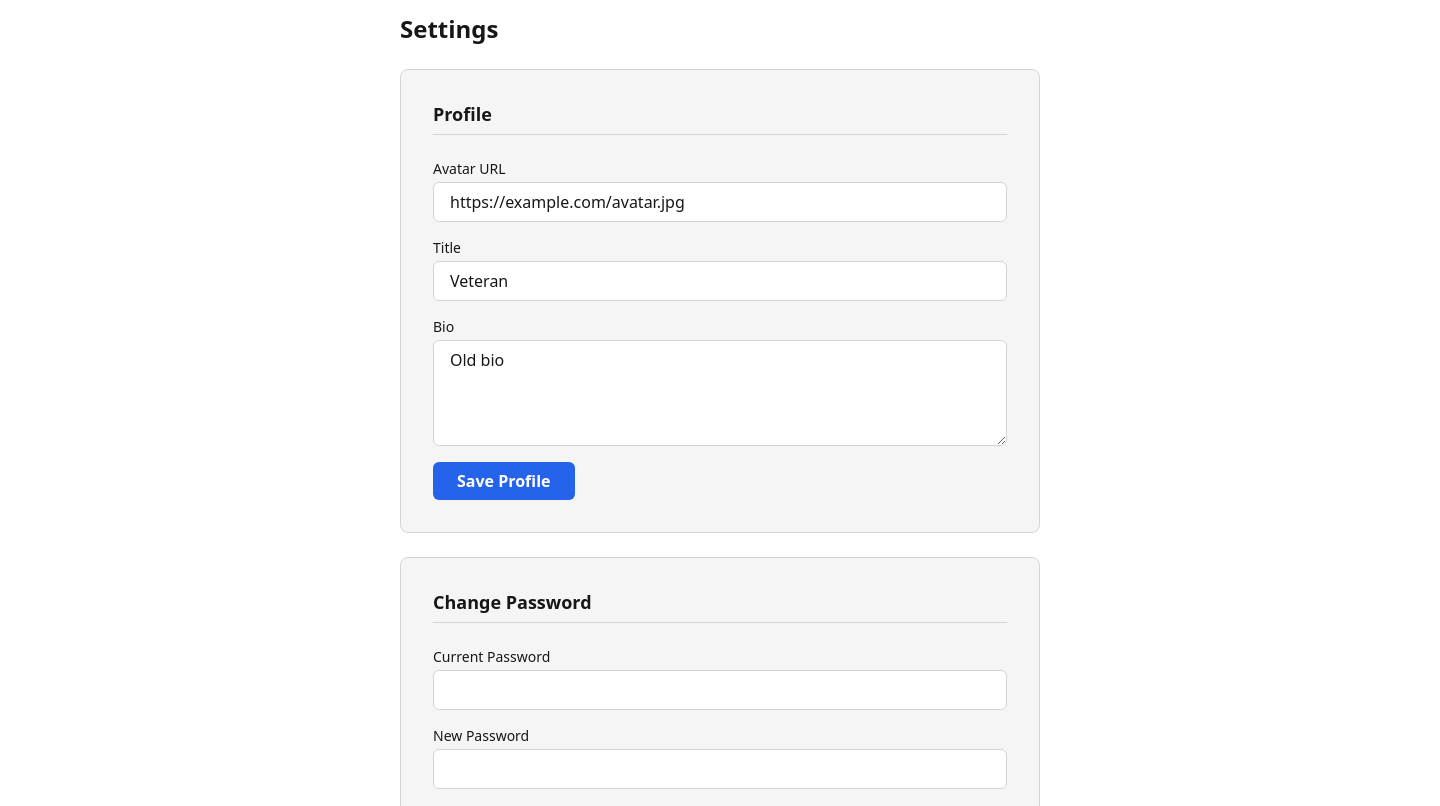
Scenario: UserSettingsPage › shows success toast on profile update
The width and height of the screenshot is (1440, 806).
Click the button "Save Profile".
click(504, 481)  # box 433,462 -> 574,500
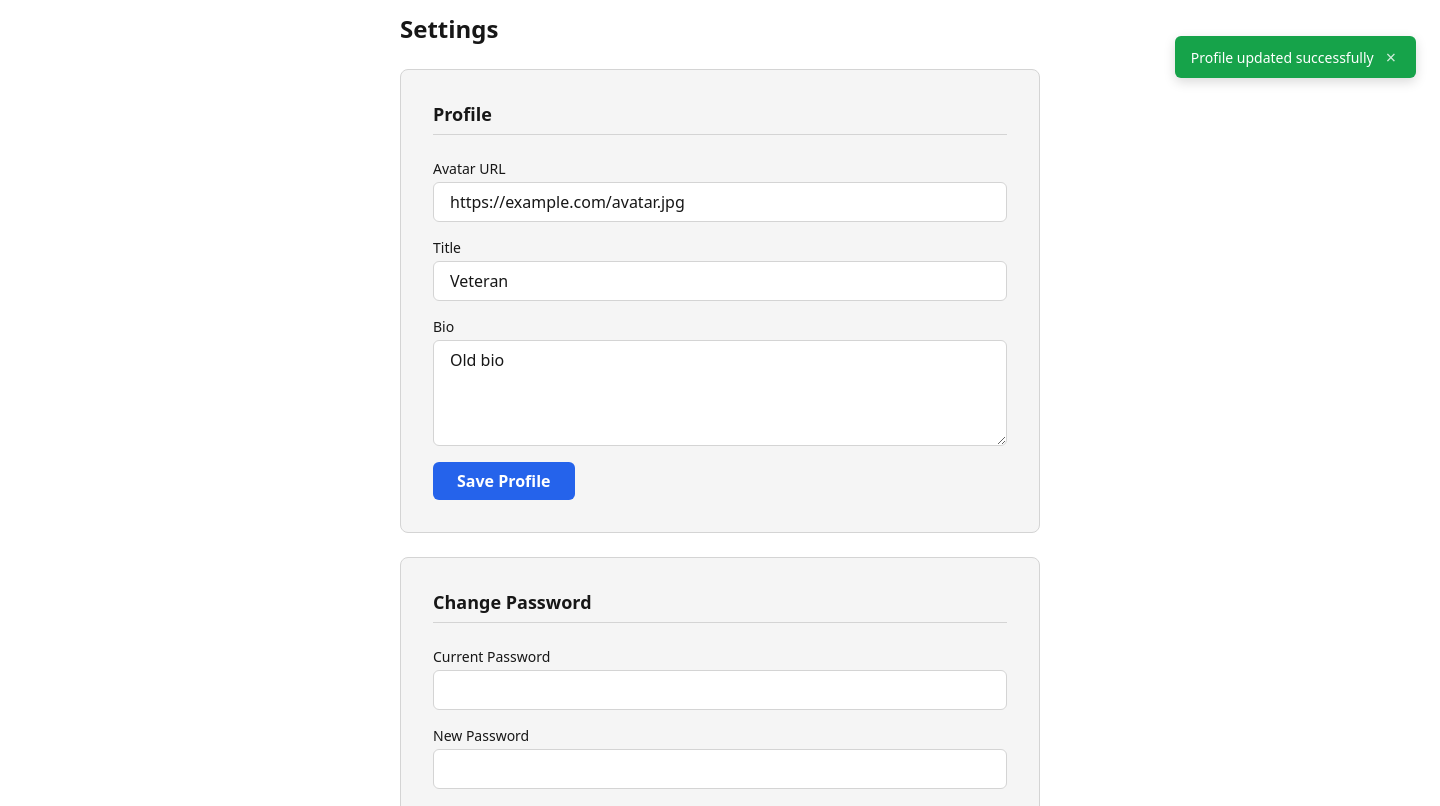
Check: the text "Profile updated successfully" is shown, box 1191,48 -> 1374,66
